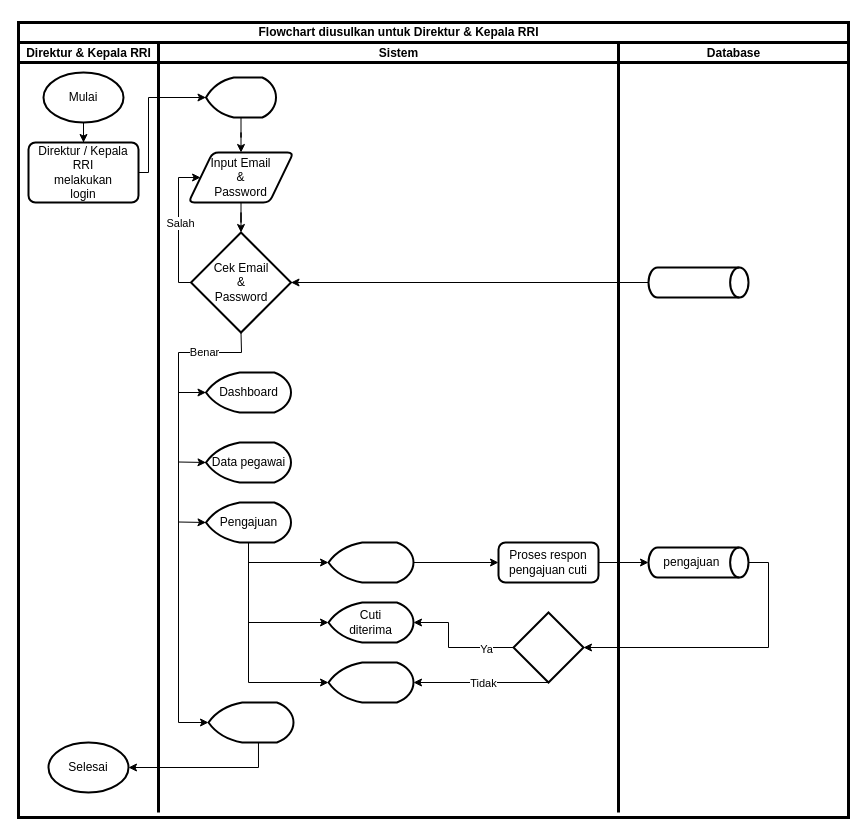
The diagram is 868 pixels wide and 836 high, and some of its shapes have lost their labels. The box of each missing label's shape, as (x1, y1, x2, y2) in pixels:
Cuti ditolak: (327, 661, 414, 703)
Diterima?: (512, 611, 584, 683)
Log Out: (207, 701, 294, 743)
Login: (204, 76, 276, 118)
Pengajuan cuti: (327, 541, 414, 583)
users: (647, 266, 749, 298)
